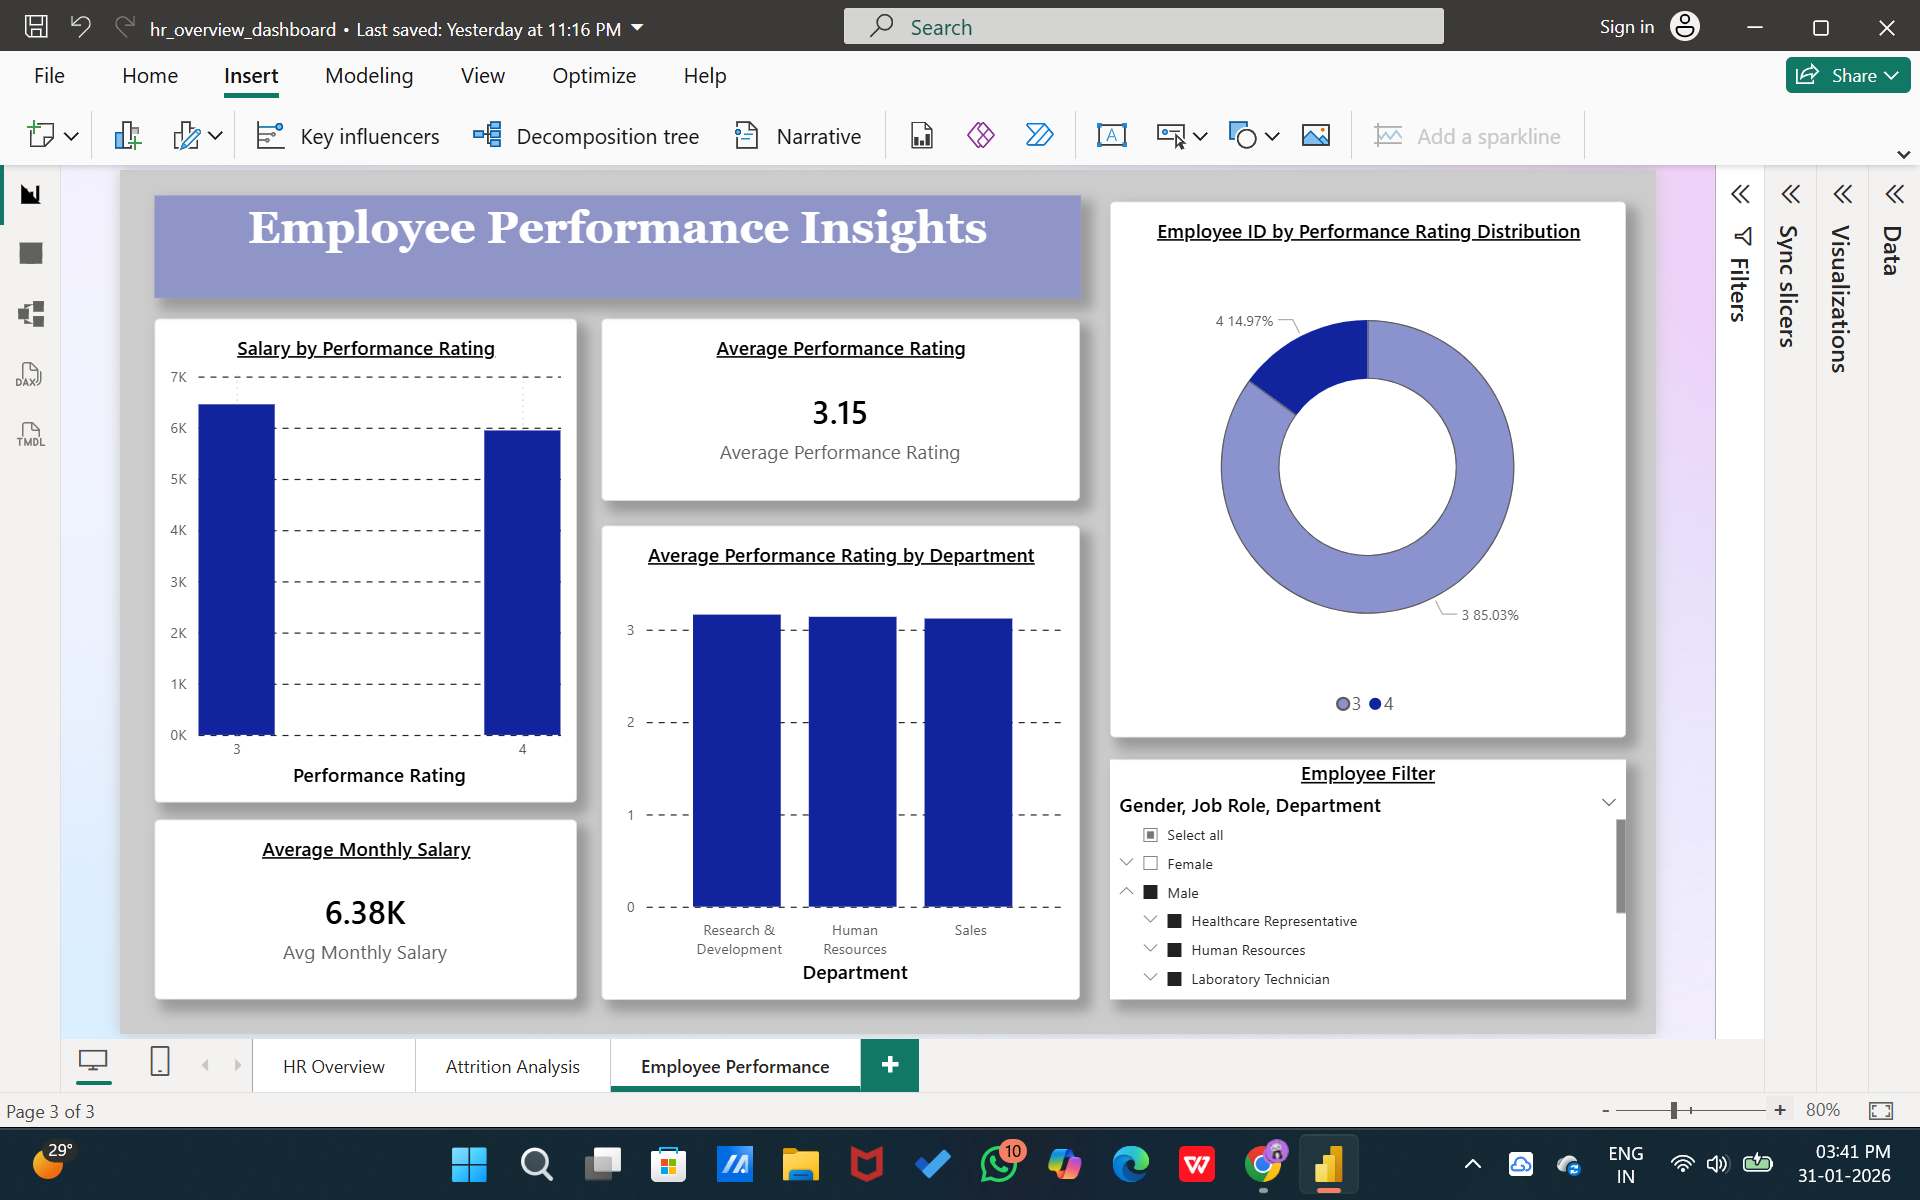

Layout of this report page (visuals, bound fields, positions):
{"tool":"powerbi","page":{"name":"Employee Performance","canvas":[1280,720],"ordinal":2},"visuals":[{"type":"columnChart","title":"Salary by Performance Rating","fields":{"Category":["WA_Fn-UseC_-HR-Employee-Attrition.Performance Rating"],"Y":["WA_Fn-UseC_-HR-Employee-Attrition.Average Monthly Salary"]},"box":[28.3,123.3,351.7,403.3],"z":0},{"type":"clusteredColumnChart","fields":{"Category":["WA_Fn-UseC_-HR-Employee-Attrition.Department"],"Y":["WA_Fn-UseC_-HR-Employee-Attrition.Average Performance Rating"]},"box":[401.7,296.7,398.3,395],"z":1000},{"type":"card","title":"Average Performance Rating","fields":{"Values":["WA_Fn-UseC_-HR-Employee-Attrition.Average Performance Rating"]},"box":[401.7,123.3,398.3,151.7],"z":2000},{"type":"card","title":"Average Monthly Salary","fields":{"Values":["WA_Fn-UseC_-HR-Employee-Attrition.Avg Monthly Salary"]},"box":[28.3,541.7,351.7,150],"z":3000},{"type":"slicer","title":"Employee Filter","fields":{"Values":["WA_Fn-UseC_-HR-Employee-Attrition.Gender","WA_Fn-UseC_-HR-Employee-Attrition.Job Role","WA_Fn-UseC_-HR-Employee-Attrition.Department"]},"box":[825,491.7,430,200],"z":4000},{"type":"textbox","box":[28.3,21.7,771.7,85],"z":5000},{"type":"donutChart","title":"Employee by Performance Rating Distribution","fields":{"Category":["WA_Fn-UseC_-HR-Employee-Attrition.Performance Rating"],"Y":["CountNonNull(WA_Fn-UseC_-HR-Employee-Attrition.Employee ID)"]},"box":[825,26.7,430,446.7],"z":5001}]}

Visuals, with their boxes on the page's 1280x720 design canvas (x1, y1, x2, y2). These are canvas units, not pixel positions in the 1920x1200 screenshot, which may show the page scaled, cropped or inside an application window:
"Salary by Performance Rating" columnChart: bbox=[28, 123, 380, 527]
clusteredColumnChart - WA_Fn-UseC_-HR-Employee-Attrition.Department x WA_Fn-UseC_-HR-Employee-Attrition.Average Performance Rating: bbox=[402, 297, 800, 692]
"Average Performance Rating" card: bbox=[402, 123, 800, 275]
"Average Monthly Salary" card: bbox=[28, 542, 380, 692]
"Employee Filter" slicer: bbox=[825, 492, 1255, 692]
textbox: bbox=[28, 22, 800, 107]
"Employee by Performance Rating Distribution" donutChart: bbox=[825, 27, 1255, 473]
